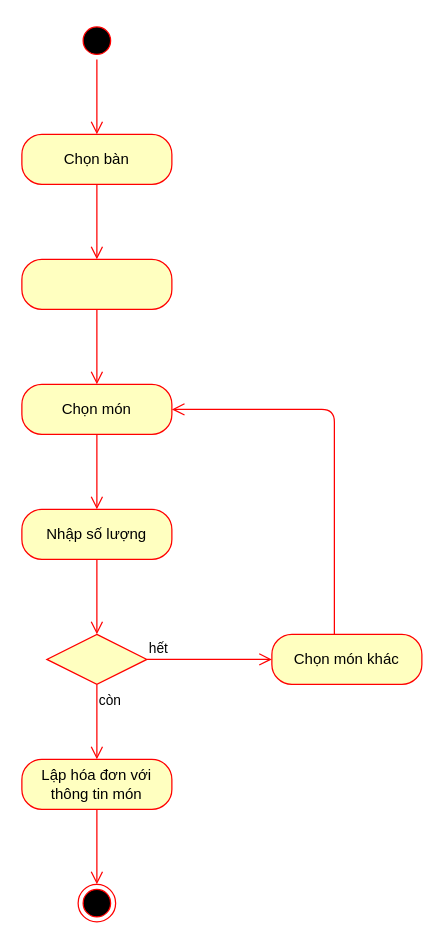
This 444x944 diagram has some shape labels left out. Each missing label, with the centre of its shape:
"Chọn danh mục" belongs at point 96,283.
"Kiểm tra số lượng" belongs at point 96,658.
